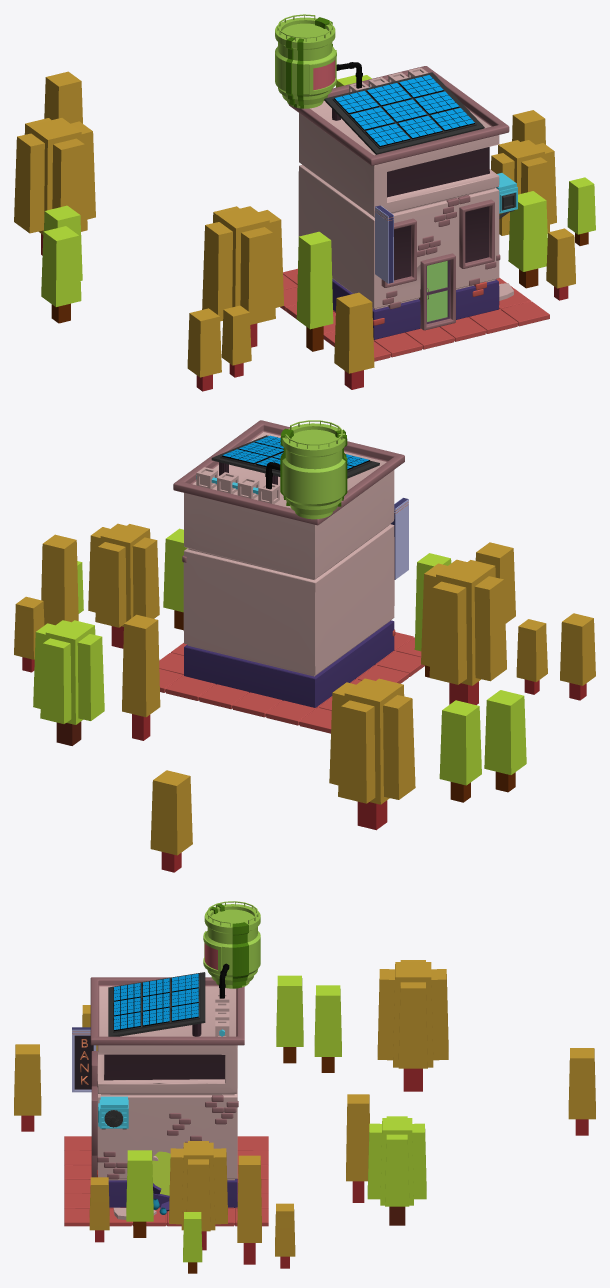
Rendered from uploads_files_6342182_BankBrokenWall.fbx.
3 views of the same model, one above another, from view 1: azimuth 30°, elevation 25°; view 2: azimuth 150°, elevation 25°; view 3: azimuth 270°, elevation 25° (orthographic). The views are drawn at different scales.
Parts seen in each view (by area): view 1: BankBuilding, Tree5, Tree1, SolarPanel, Tank, Tree17, Tree13, Tree4, Tree8, Tree10, Tree7, Tree9 (+7 smaller); view 2: BankBuilding, Tree1, Tree5, Tree15, Tree13, Tank, Tree16, Tree2, Tree4, Tree3, Tree12, Tree7 (+7 smaller); view 3: BankBuilding, Tree1, Tree15, SolarPanel, Tree13, Tank, Tree12, Tree16, Tree4, Tree10, Tree3, Tree8 (+6 smaller).
Part boxes in pixels (<box>): BankBuilding: <box>280,66,549,361</box>; Tree5: <box>202,206,283,347</box>; Tree1: <box>14,118,95,255</box>; SolarPanel: <box>324,72,484,154</box>; Tank: <box>275,14,362,108</box>; Tree17: <box>296,231,333,351</box>; Tree13: <box>491,140,556,235</box>; Tree4: <box>41,226,81,323</box>; Tree8: <box>334,292,374,389</box>; Tree10: <box>508,191,547,288</box>; Tree7: <box>187,308,221,391</box>; Tree9: <box>546,228,575,300</box>; BankBuilding: <box>159,420,424,733</box>; Tree1: <box>329,678,415,830</box>; Tree5: <box>421,559,506,705</box>; Tree15: <box>33,620,104,745</box>; Tree13: <box>88,523,159,648</box>; Tank: <box>265,420,347,519</box>; Tree16: <box>122,614,160,740</box>; Tree2: <box>150,770,192,872</box>; Tree4: <box>484,690,526,792</box>; Tree3: <box>439,700,481,802</box>; Tree12: <box>41,534,78,625</box>; Tree7: <box>560,613,595,700</box>; BankBuilding: <box>64,977,268,1226</box>; Tree1: <box>377,960,448,1091</box>; Tree15: <box>367,1116,426,1225</box>; SolarPanel: <box>108,972,205,1036</box>; Tree13: <box>169,1141,227,1250</box>; Tank: <box>203,901,260,998</box>; Tree12: <box>237,1155,261,1264</box>; Tree16: <box>346,1094,369,1202</box>; Tree4: <box>276,975,303,1063</box>; Tree10: <box>126,1150,153,1237</box>; Tree3: <box>314,985,341,1072</box>; Tree8: <box>14,1044,41,1131</box>.
Bounding box in the file's own units: 14.97 × 7.71 × 16.61.
